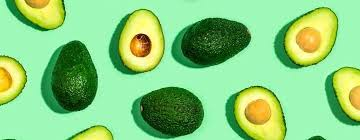aguacate: (46, 38, 104, 122), (175, 13, 256, 64), (129, 88, 213, 134)
